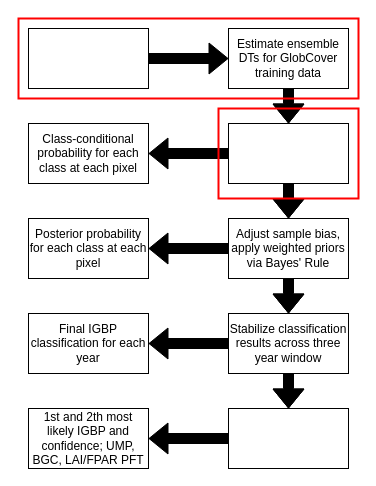
Some shapes in this 376 by 486 pixel diagram are drawn without their labels. Each missing label, with the box of its shape:
Apply boosted DTs to global data: (228, 122, 348, 184)
Cross-Walk to other classifications: (228, 408, 348, 468)
Extract exemplars from site database: (28, 28, 148, 88)
